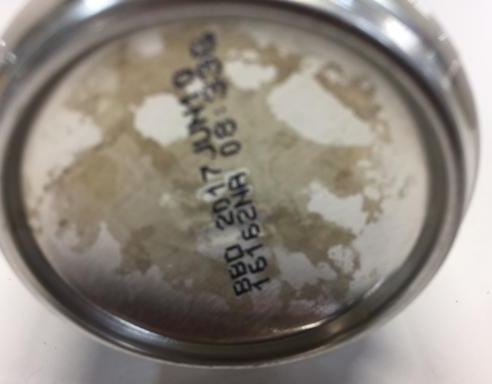Metal: (9, 14, 431, 353)
